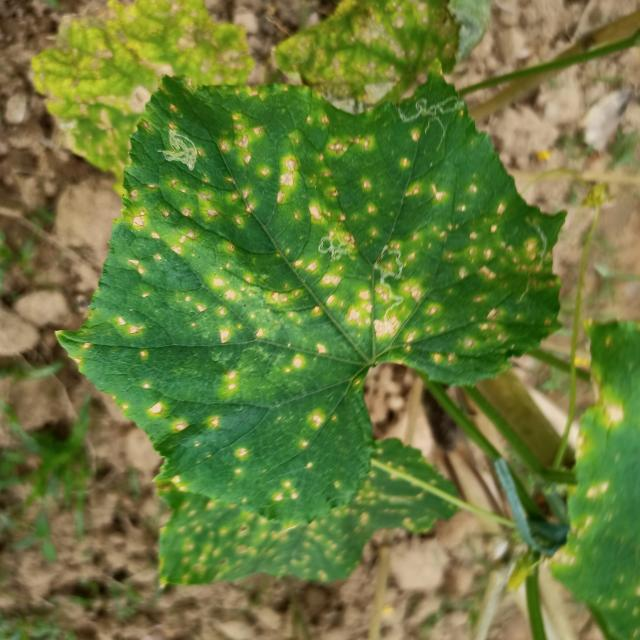disease_cucumber: (75, 88, 557, 376), (137, 378, 187, 436), (208, 366, 242, 429), (298, 404, 327, 469), (269, 474, 299, 506), (229, 439, 251, 477)
